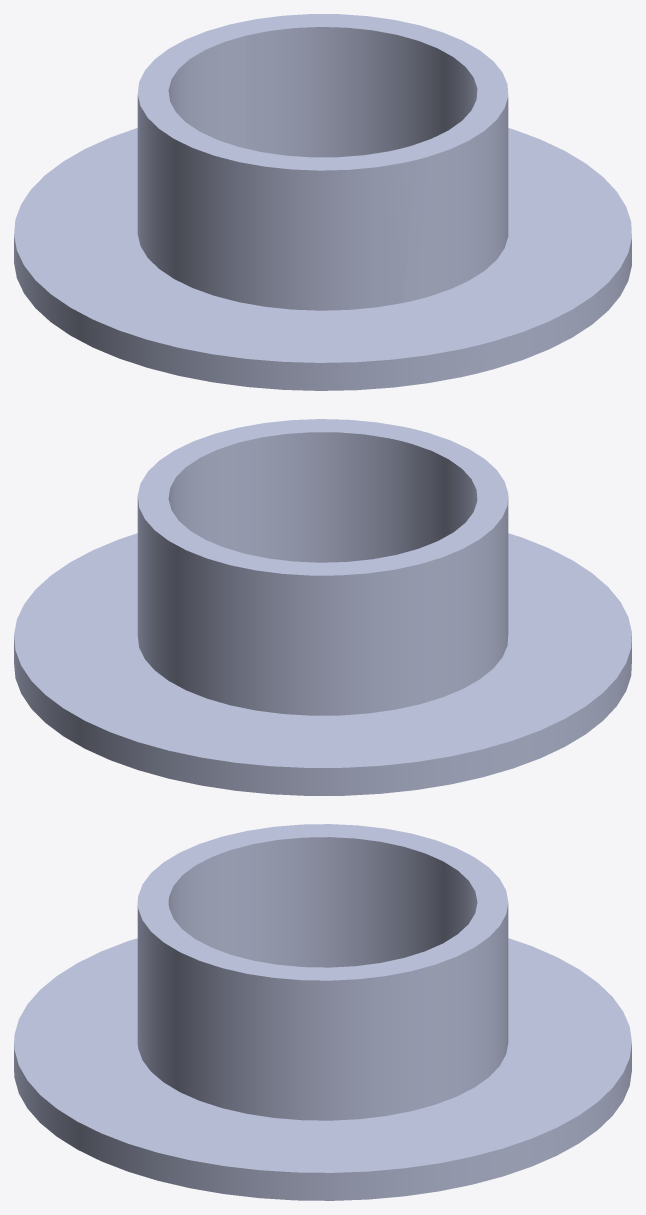
3 views of the same model, one above another, from view 1: azimuth 30°, elevation 25°; view 2: azimuth 150°, elevation 25°; view 3: azimuth 270°, elevation 25° (orthographic).
Parts seen in each view (by area): view 1: base_link_3_DOF_ARM_BASE-1; view 2: base_link_3_DOF_ARM_BASE-1; view 3: base_link_3_DOF_ARM_BASE-1.
Part boxes in pixels (bbox=[...]): base_link_3_DOF_ARM_BASE-1: bbox=[14, 14, 631, 390]; base_link_3_DOF_ARM_BASE-1: bbox=[14, 419, 631, 795]; base_link_3_DOF_ARM_BASE-1: bbox=[14, 824, 631, 1200].
Bounding box in the file's own units: 0.1 × 0.03 × 0.1.
